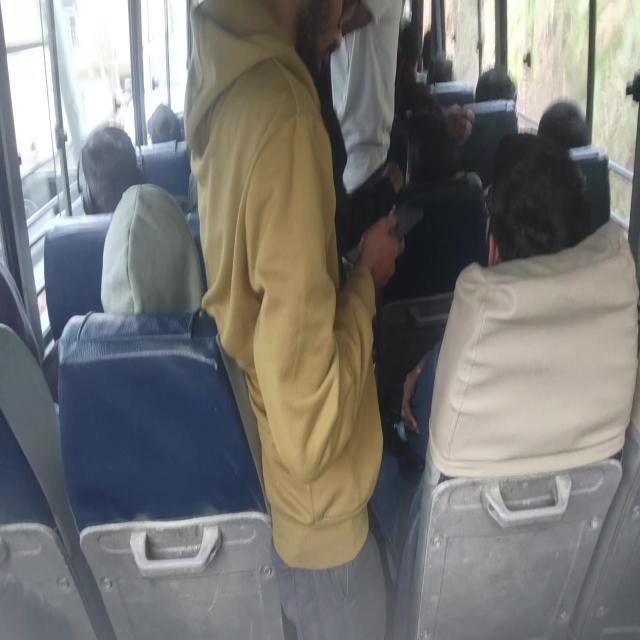person: (189, 0, 371, 551), (106, 185, 196, 330), (286, 0, 346, 205), (480, 149, 570, 277), (334, 0, 400, 140), (78, 133, 138, 222), (0, 255, 41, 384), (406, 130, 461, 217), (390, 77, 445, 141), (546, 95, 593, 166), (472, 53, 519, 120), (143, 90, 183, 147), (428, 57, 465, 98), (403, 26, 420, 82)
